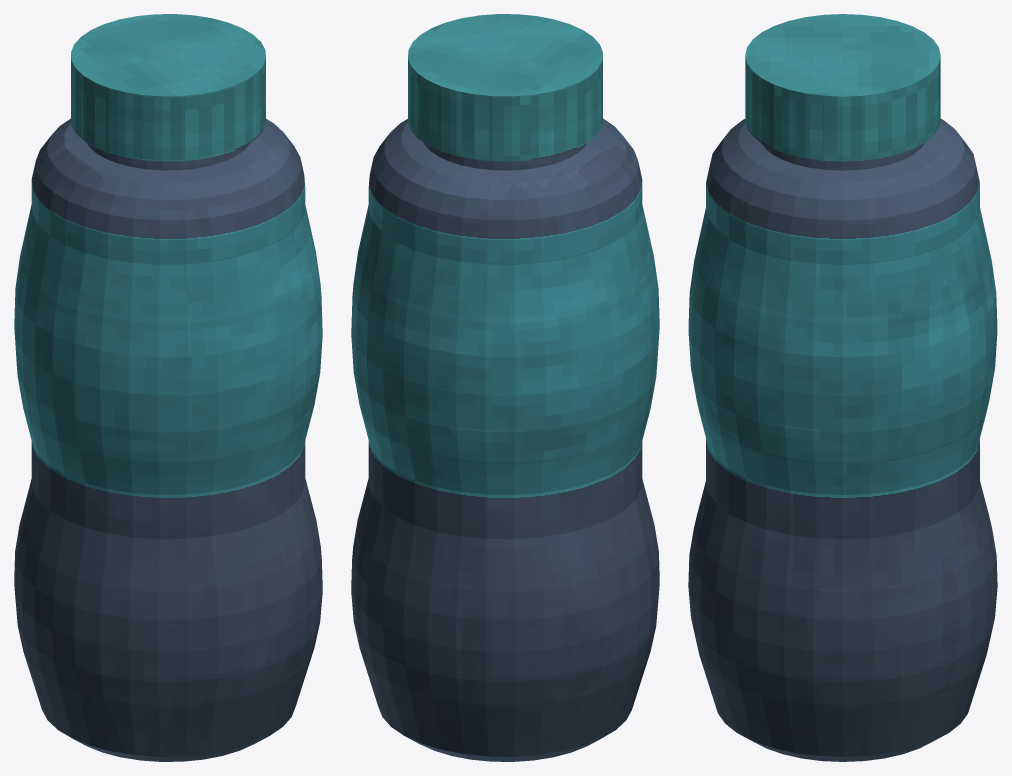
Rendered from Plastic Bottle 01.obj.
3 views of the same model, side by side, from view 1: azimuth 30°, elevation 25°; view 2: azimuth 150°, elevation 25°; view 3: azimuth 270°, elevation 25° (orthographic).
Visible parts, largest first — view 1: Bottles; view 2: Bottles; view 3: Bottles.
Boxes of the visible parts, x1,y1,x2,y2 form: Bottles: [14, 14, 322, 761]; Bottles: [351, 14, 659, 761]; Bottles: [688, 14, 997, 761].
Bounding box in the file's own units: 2.21 × 5.2 × 2.21.
